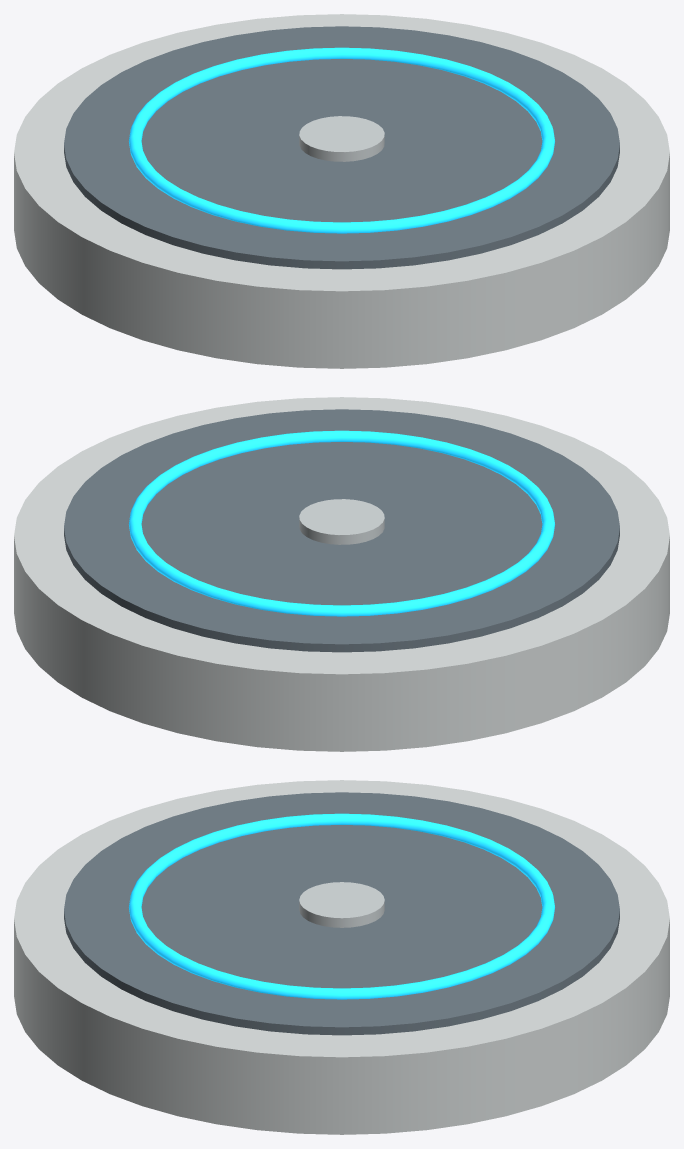
File: wireless-access-point.glb
3 views of the same model, one above another, from view 1: azimuth 30°, elevation 25°; view 2: azimuth 150°, elevation 25°; view 3: azimuth 270°, elevation 25° (orthographic).
Visible parts, largest first — view 1: Sculpted top panel, Access point enclosure, Premium ceiling Wi-Fi access point, Central status cap; view 2: Sculpted top panel, Access point enclosure, Premium ceiling Wi-Fi access point, Central status cap; view 3: Sculpted top panel, Access point enclosure, Premium ceiling Wi-Fi access point, Central status cap.
Part boxes in pixels (x1,y1,x2,y2): Sculpted top panel: (64, 26, 619, 269); Access point enclosure: (14, 14, 669, 368); Premium ceiling Wi-Fi access point: (129, 47, 554, 233); Central status cap: (299, 116, 384, 161); Sculpted top panel: (64, 409, 619, 652); Access point enclosure: (14, 397, 669, 751); Premium ceiling Wi-Fi access point: (129, 430, 554, 616); Central status cap: (299, 499, 384, 544); Sculpted top panel: (64, 792, 619, 1035); Access point enclosure: (14, 780, 669, 1134); Premium ceiling Wi-Fi access point: (129, 813, 554, 999); Central status cap: (299, 882, 384, 927).
Size of the model in its own units: 1.84 by 0.3575 by 1.84.
